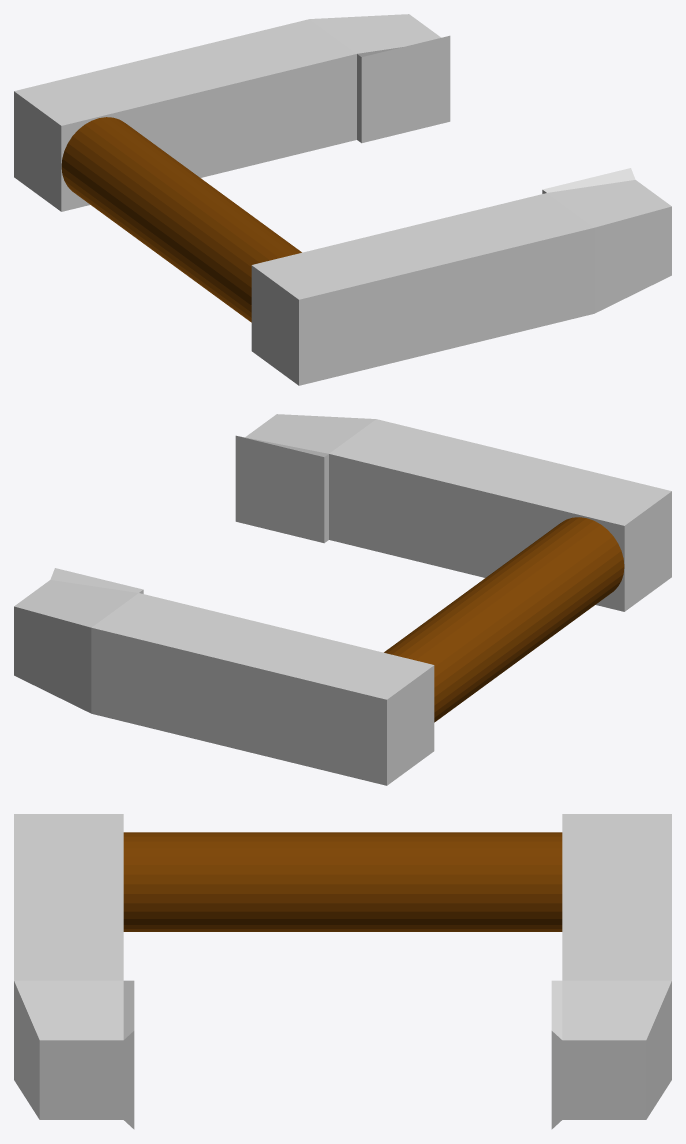
File: Lever_Handle.fbx
3 renders of one model, top to bottom at view 1: azimuth 30°, elevation 25°; view 2: azimuth 150°, elevation 25°; view 3: azimuth 270°, elevation 25°, orthographic. The views are drawn at different scales.
Visible parts, largest first — view 1: Cube.001; view 2: Cube.001; view 3: Cube.001.
Part boxes in pixels (x1,y1,x2,y2): Cube.001: (14,14,671,385); Cube.001: (14,414,671,785); Cube.001: (14,814,671,1129).
Bounding box in the file's own units: 131 × 28.03 × 168.
